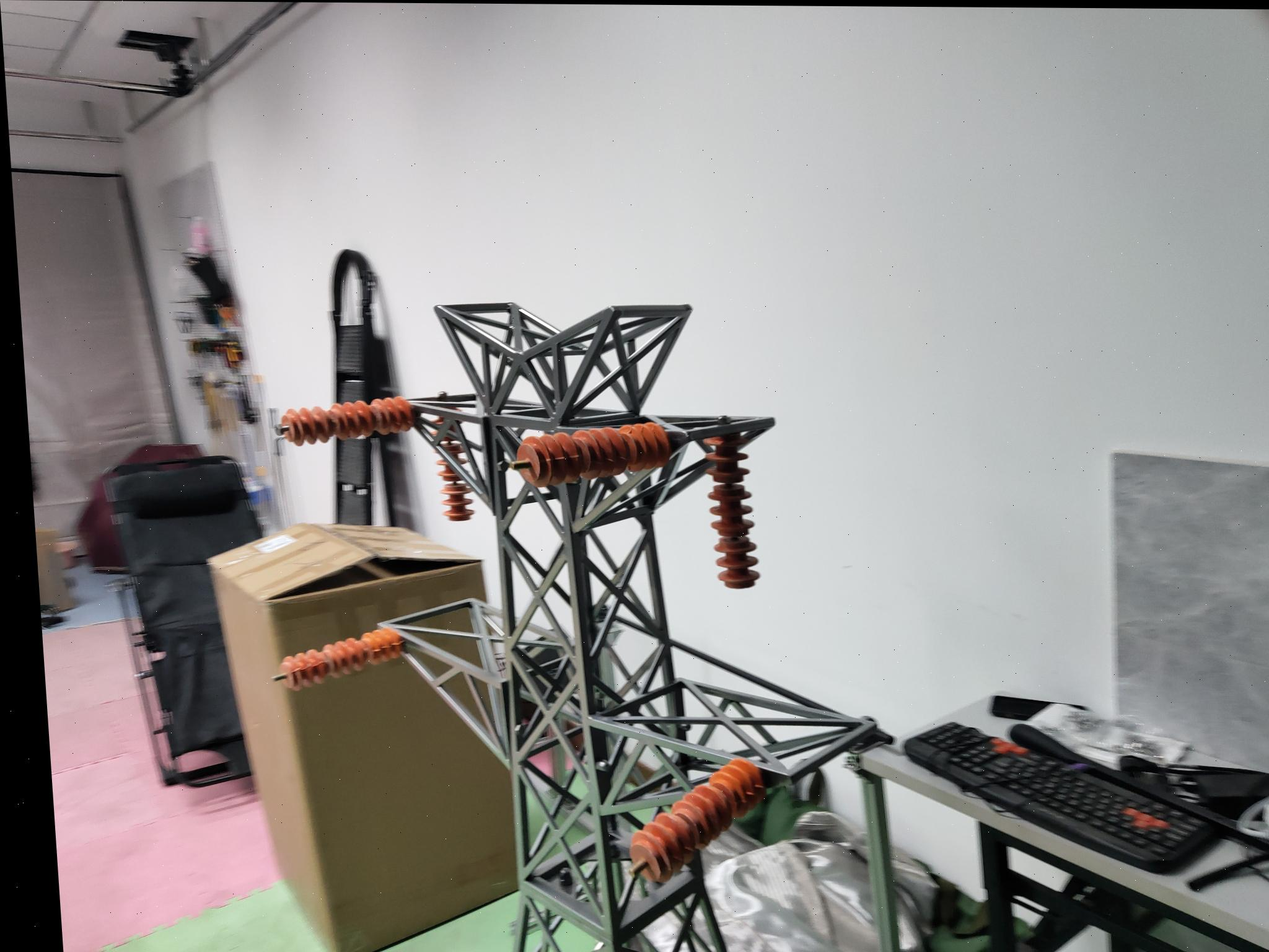tower: (361, 306, 883, 952)
